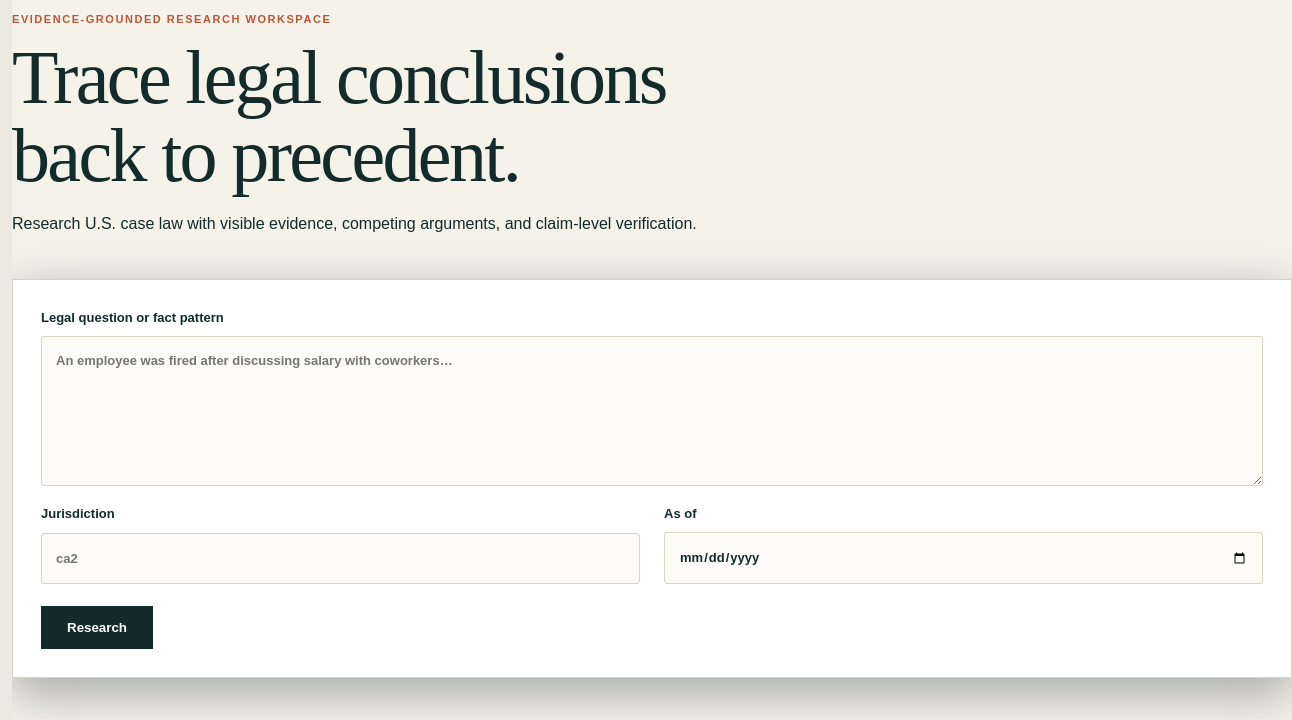
Test: accepts research input and shows loading
This screenshot has width=1292, height=720.
Replace the text in the text box labelled "Legal question or fact pattern" with "A legal question": (652, 411) [41,336,1263,486]
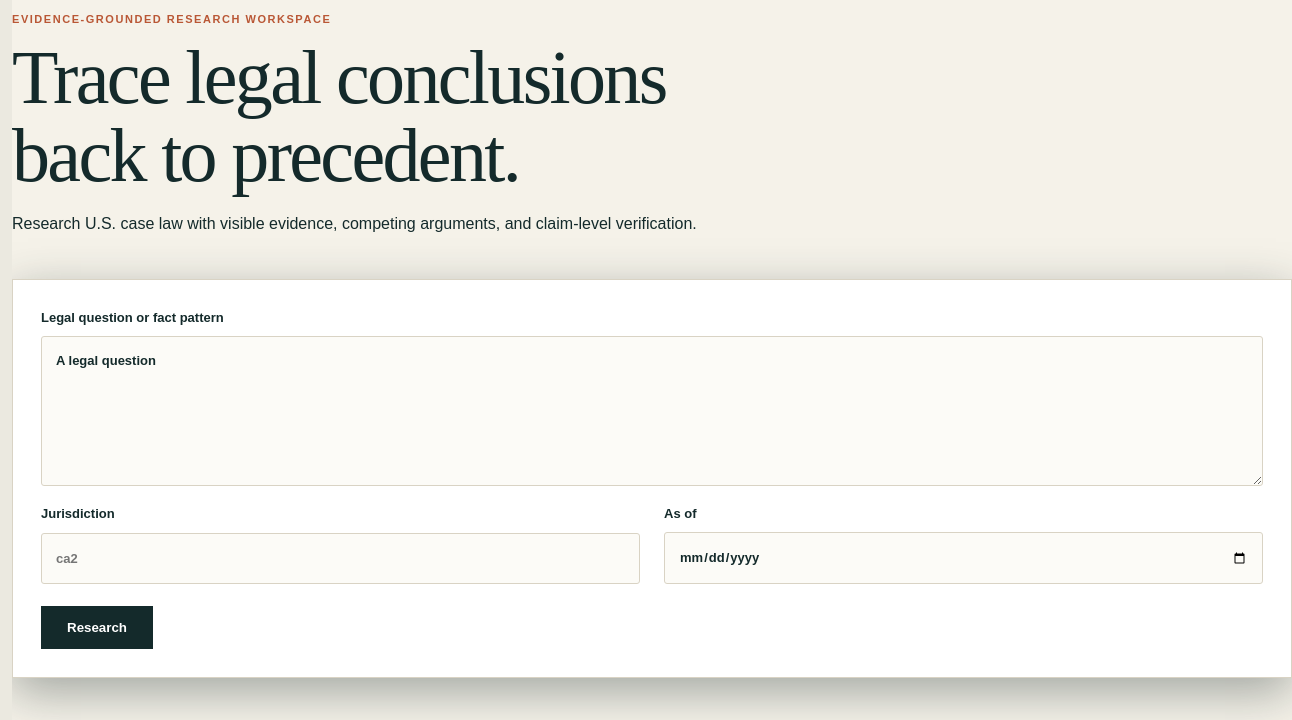
Click the button "Research": (97, 628) [41,606,153,649]
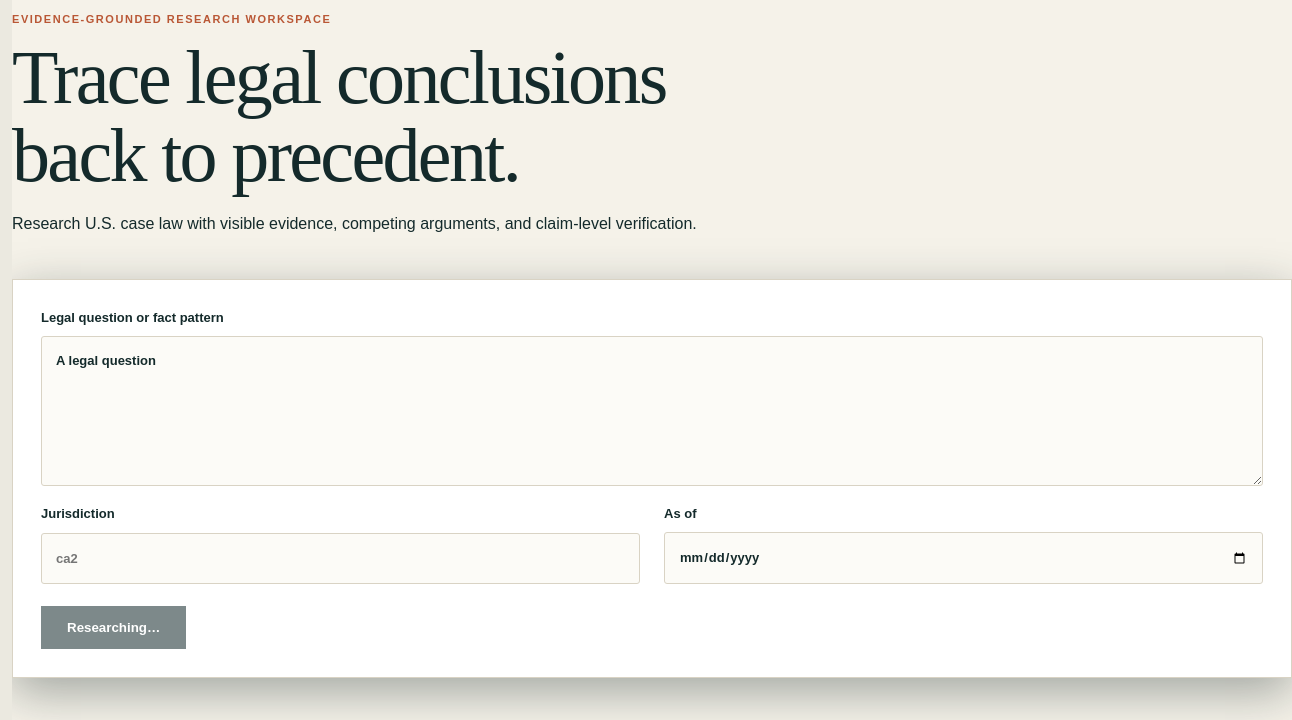
Now the button "Researching…" is disabled, box [41,606,186,649]
